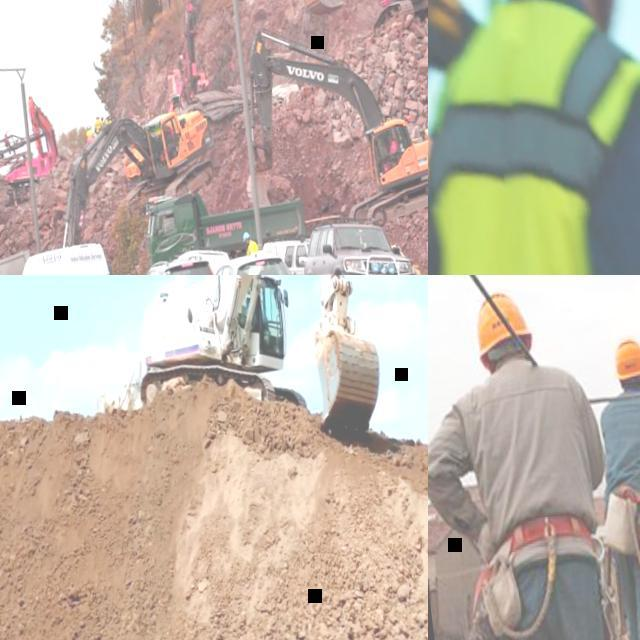helmet: (471, 289, 535, 367), (608, 334, 640, 380), (242, 233, 248, 242), (85, 124, 90, 129), (164, 125, 168, 131), (386, 136, 391, 140), (99, 114, 103, 119), (94, 114, 99, 118), (105, 114, 109, 118)
vest: (428, 0, 640, 275), (244, 241, 258, 257), (387, 141, 397, 154), (166, 126, 173, 142), (93, 119, 101, 132), (85, 129, 93, 137), (104, 118, 110, 124), (100, 120, 104, 126)
